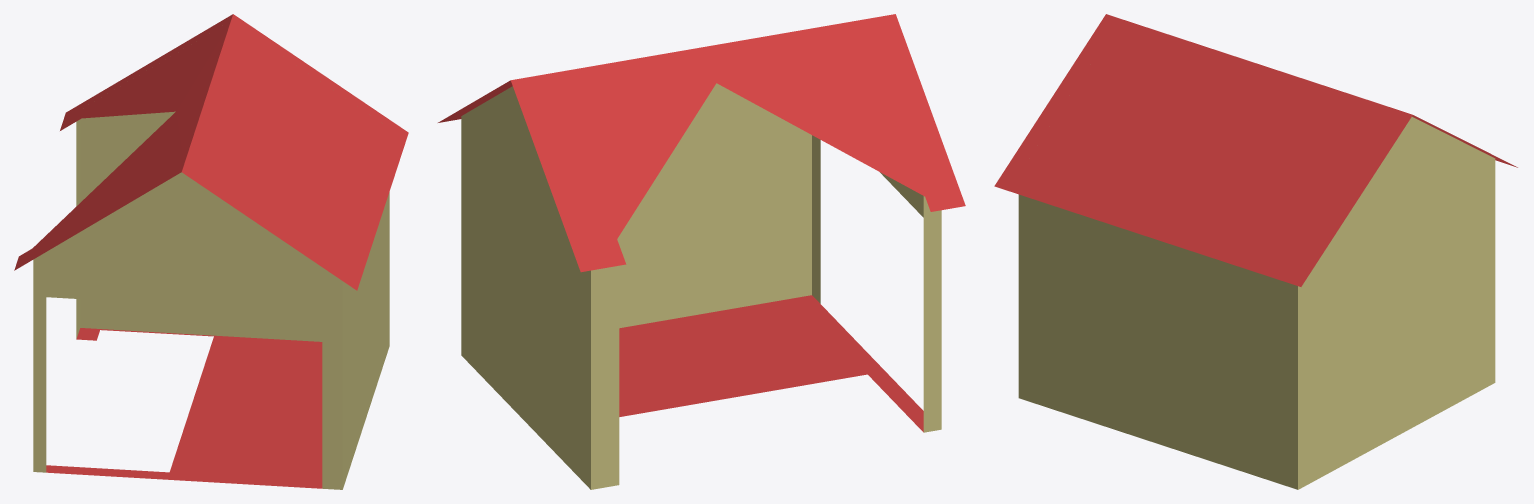
3 renders of one model, left to right at view 1: azimuth 30°, elevation 25°; view 2: azimuth 150°, elevation 25°; view 3: azimuth 270°, elevation 25°, orthographic. The views are drawn at different scales.
Size of the model in its own units: 14.95 by 15.12 by 10.3.
